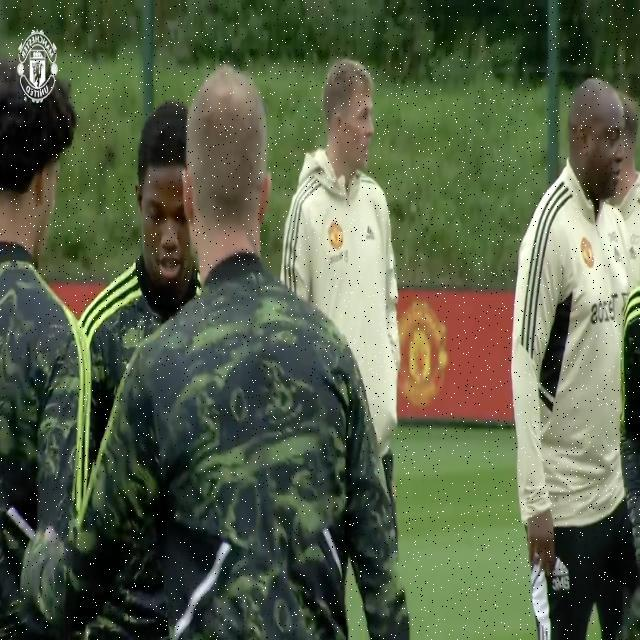Adidas: (550, 555, 569, 578), (610, 243, 624, 265), (364, 224, 377, 244)
